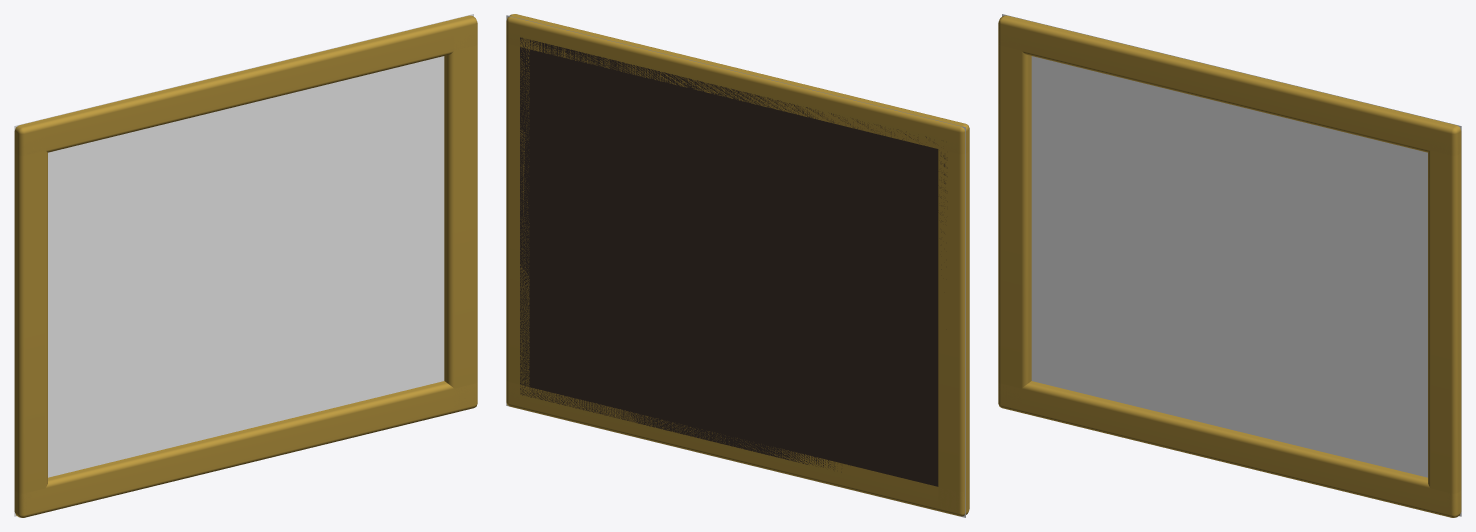
File: furn_empty_frame.glb
3 renders of one model, left to right at view 1: azimuth 30°, elevation 25°; view 2: azimuth 150°, elevation 25°; view 3: azimuth 330°, elevation 25°, orthographic.
Parts seen in each view (by area): view 1: furn_empty_frame_pic, furn_empty_frame_main; view 2: furn_empty_frame_main, furn_empty_frame_pic; view 3: furn_empty_frame_pic, furn_empty_frame_main.
Boxes of the visible parts, box(x1,y1,x2,y2) form: furn_empty_frame_pic: box(14, 14, 473, 516); furn_empty_frame_main: box(14, 15, 477, 517); furn_empty_frame_main: box(506, 14, 969, 516); furn_empty_frame_pic: box(506, 15, 965, 517); furn_empty_frame_pic: box(1002, 14, 1461, 516); furn_empty_frame_main: box(998, 15, 1461, 517).
Size of the model in its own units: 2 by 1.62 by 0.06.
